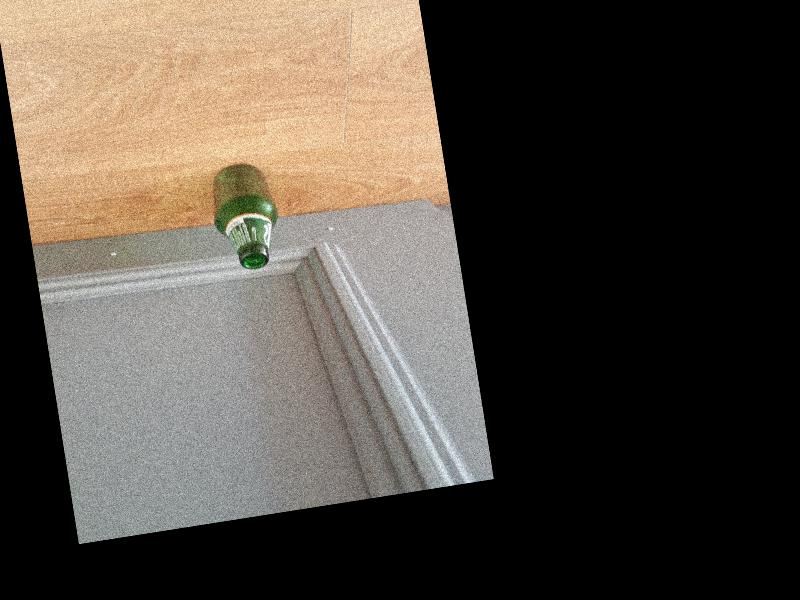Beer: (205, 159, 285, 273)
